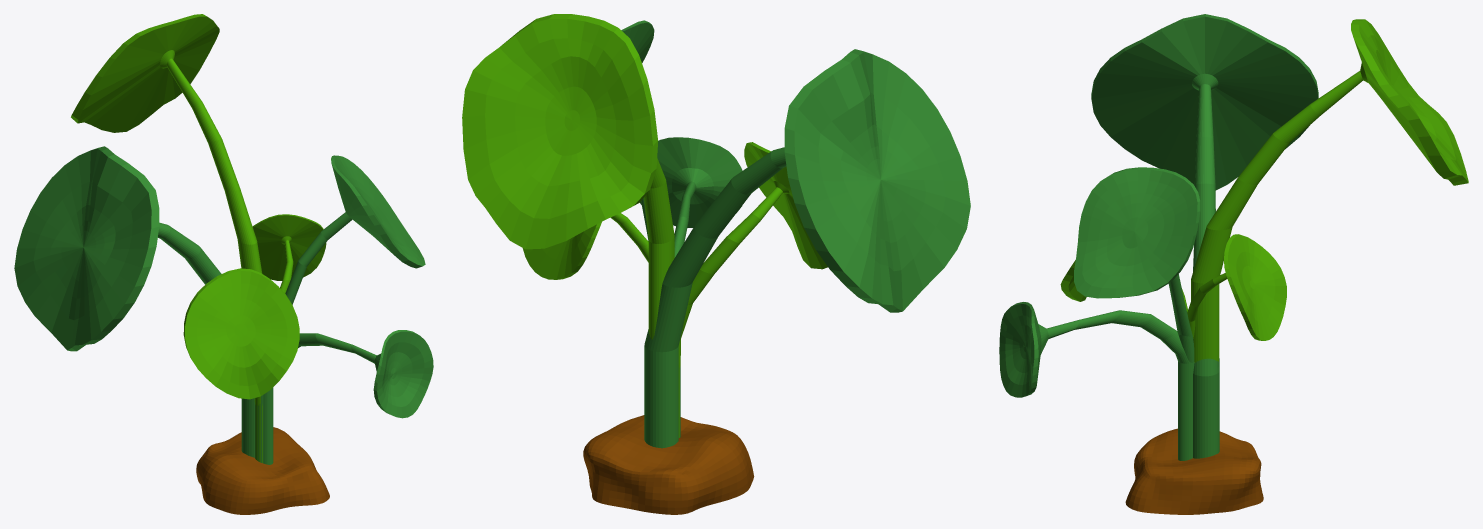
Rendered from Pileapepe_M.fbx.
The picture shows the model from 3 angles, left to right: view 1: azimuth 30°, elevation 25°; view 2: azimuth 150°, elevation 25°; view 3: azimuth 270°, elevation 25°; orthographic projection. The views are drawn at different scales.
Visible parts, largest first — view 1: Circle; view 2: Circle; view 3: Circle.
Boxes of the visible parts, x1,y1,x2,y2 form: Circle: (14, 14, 433, 514); Circle: (462, 14, 970, 514); Circle: (999, 14, 1468, 514).
Size of the model in its own units: 52.94 by 66.18 by 60.32.
